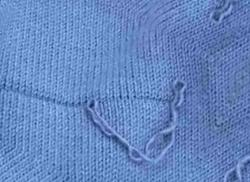snag: (77, 91, 119, 126)
